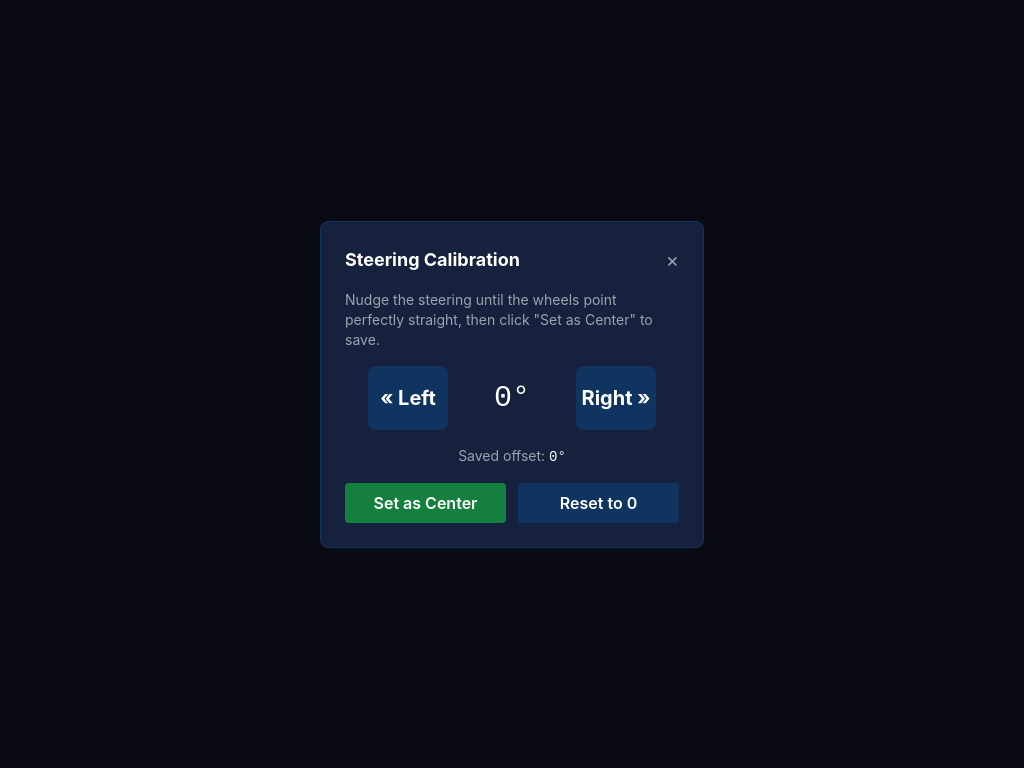
Scenario: CalibrationPanel › clicking Left decrements angle by 1 and sends calibrate_steer
The image size is (1024, 768).
Click the button "« Left": (408, 398) [368,366,448,430]
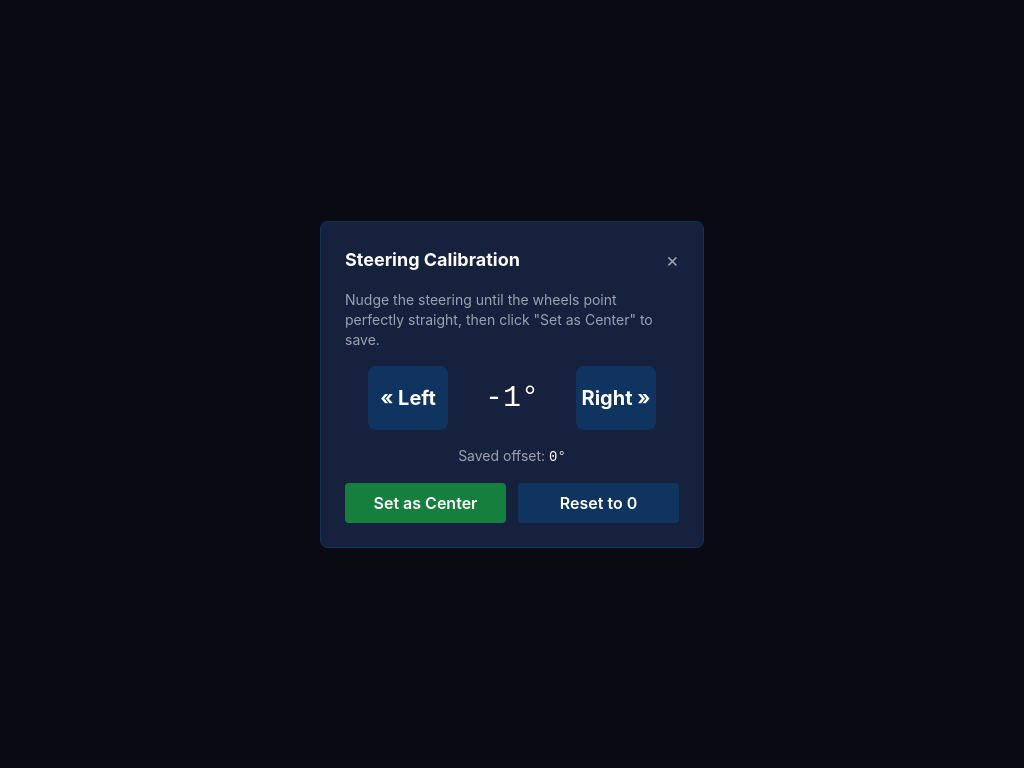
Now the text "-1°" is shown, box [485,380,539,414]
